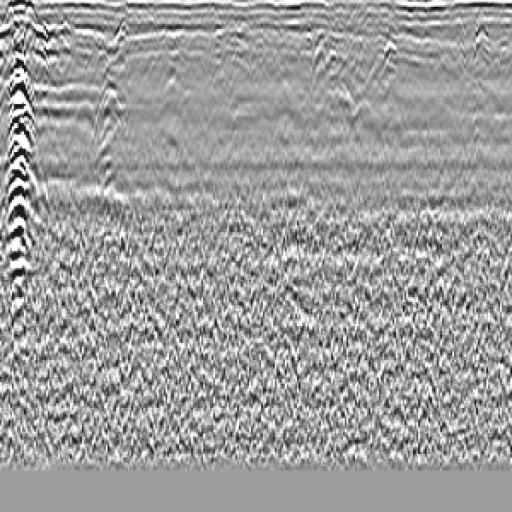metalic: (2, 29, 66, 321)
non-metallic: (78, 48, 156, 216), (296, 27, 364, 126), (360, 23, 425, 120)
